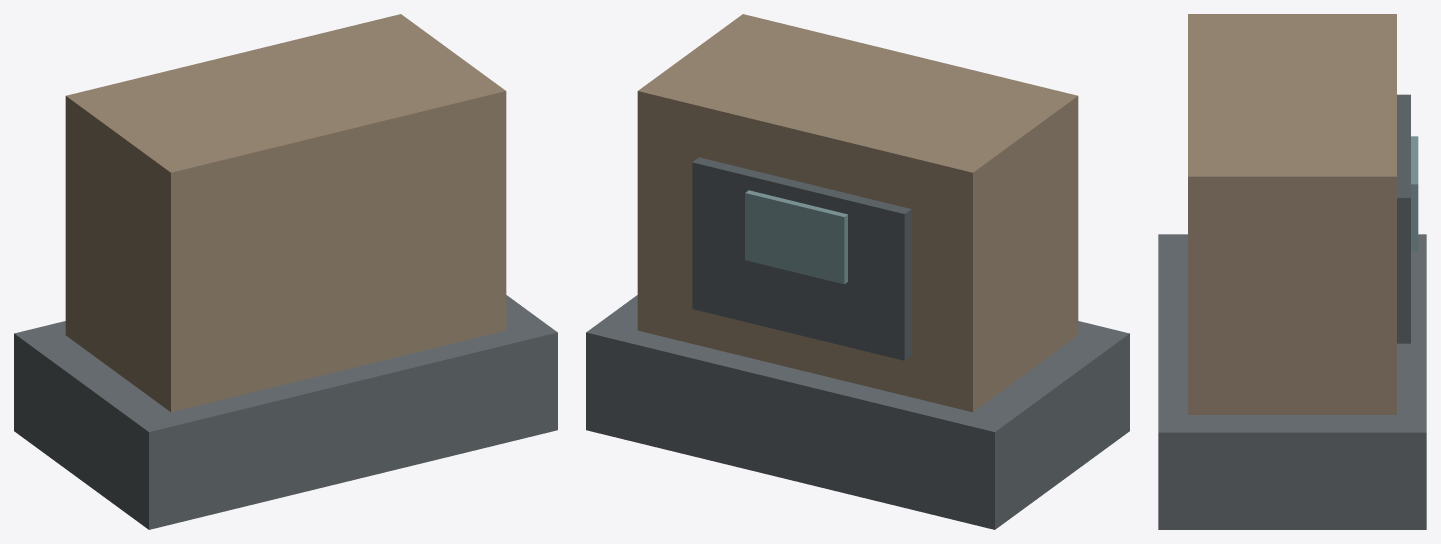
The model's file is iz3_production_generator_02.glb.
The picture shows the model from 3 angles, left to right: view 1: azimuth 30°, elevation 25°; view 2: azimuth 150°, elevation 25°; view 3: azimuth 270°, elevation 25°; orthographic projection.
Visible parts, largest first — view 1: cabinet, base; view 2: cabinet, base, panel, display; view 3: cabinet, base, panel, display.
Boxes of the visible parts, x1,y1,x2,y2 form: cabinet: (65, 14, 506, 412); base: (14, 295, 557, 529); cabinet: (637, 14, 1078, 412); base: (586, 295, 1129, 529); panel: (692, 157, 911, 360); display: (745, 190, 847, 284); cabinet: (1188, 14, 1396, 414); base: (1158, 234, 1426, 529); panel: (1397, 94, 1410, 343); display: (1411, 136, 1418, 251).
Size of the model in its own units: 1.4 by 1.1 by 0.8.
